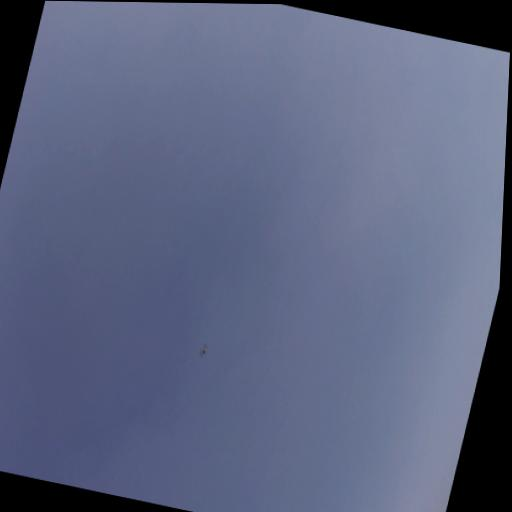drones: (197, 341, 211, 360)
